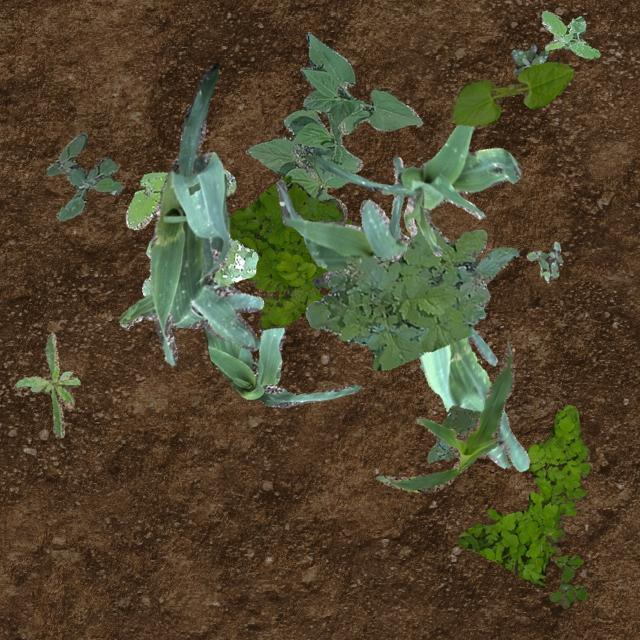crop: (118, 62, 262, 364), (244, 30, 422, 222), (314, 123, 520, 254), (374, 338, 514, 492), (274, 154, 408, 286), (418, 326, 528, 470), (202, 326, 360, 406), (448, 61, 572, 126)
weed: (304, 223, 518, 369), (456, 404, 592, 586), (228, 174, 360, 328), (125, 168, 258, 296), (12, 332, 78, 438), (46, 132, 121, 220), (426, 404, 481, 462), (540, 10, 600, 58), (548, 554, 586, 608), (526, 240, 562, 282), (510, 44, 548, 74)
